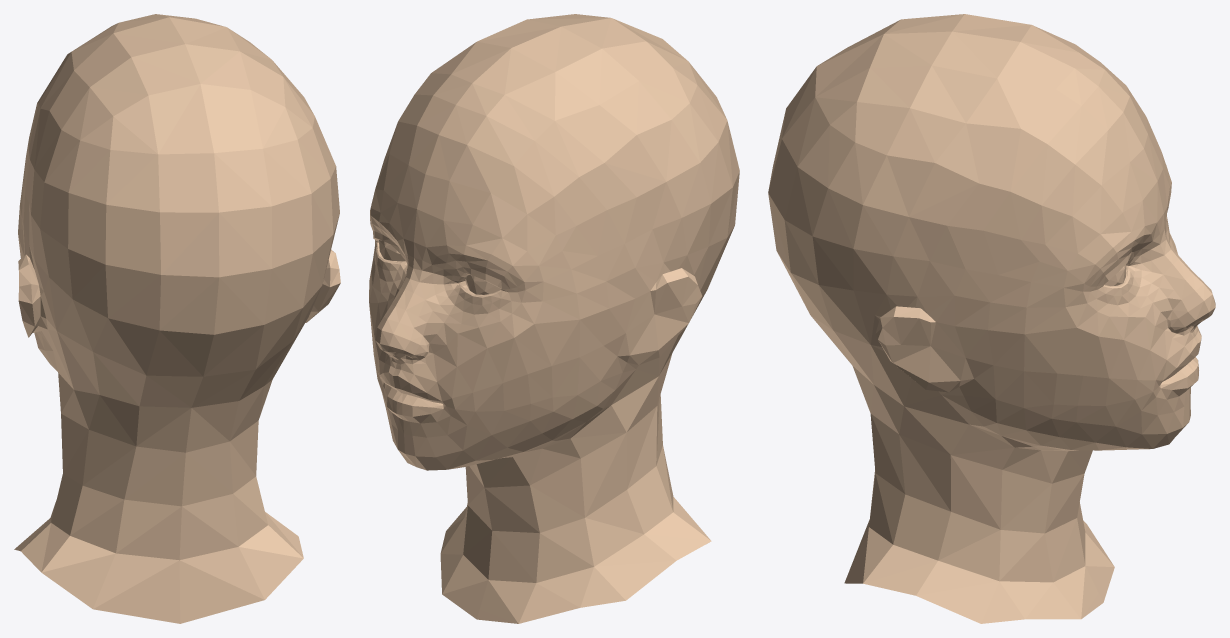
Rendered from head.glb.
3 views of the same model, side by side, from view 1: azimuth 30°, elevation 25°; view 2: azimuth 150°, elevation 25°; view 3: azimuth 270°, elevation 25° (orthographic). The views are drawn at different scales.
Visible parts, largest first — view 1: Node1276, Node1216, Node1271, Node1258, Node1249, Node1268, Node1287, Node1306, Node1209, Node1291, Node679, Node1257 (+115 smaller); view 2: Node1253, Node1261, Node1281, Node1226, Node1250, Node1366, Node1338, Node1307, Node1259, Node1234, Node1266, Node1235 (+109 smaller); view 3: Node669, Node1204, Node709, Node1206, Node893, Node897, Node722, Node924, Node701, Node933, Node640, Node731 (+115 smaller).
Boxes of the visible parts, <box> form: Node1276: <box>93,560,180,623</box>; Node1216: <box>179,560,264,623</box>; Node1271: <box>158,84,213,154</box>; Node1258: <box>161,213,219,277</box>; Node1249: <box>93,553,178,608</box>; Node1268: <box>42,553,115,608</box>; Node1287: <box>160,212,218,274</box>; Node1306: <box>160,153,218,212</box>; Node1209: <box>180,547,264,599</box>; Node1291: <box>106,213,160,274</box>; Node679: <box>200,84,262,152</box>; Node1257: <box>116,506,181,560</box>; Node1253: <box>530,458,584,517</box>; Node1261: <box>594,560,676,600</box>; Node1281: <box>581,432,626,517</box>; Node1226: <box>536,533,593,582</box>; Node1250: <box>585,518,643,566</box>; Node1366: <box>555,105,604,162</box>; Node1338: <box>556,49,601,104</box>; Node1307: <box>505,72,555,120</box>; Node1259: <box>585,433,626,517</box>; Node1234: <box>492,531,539,582</box>; Node1266: <box>595,534,675,566</box>; Node1235: <box>488,531,535,582</box>; Node669: <box>932,65,996,122</box>; Node1204: <box>916,581,998,623</box>; Node709: <box>966,123,1020,183</box>; Node1206: <box>938,530,1000,580</box>; Node893: <box>951,455,1002,528</box>; Node897: <box>1000,470,1051,529</box>; Node722: <box>909,163,978,216</box>; Node924: <box>899,434,950,510</box>; Node701: <box>887,155,934,216</box>; Node933: <box>950,455,1000,529</box>; Node640: <box>952,31,1019,78</box>; Node731: <box>910,66,965,123</box>.
Bounding box in the file's own units: 6.88 × 12.73 × 9.13.
